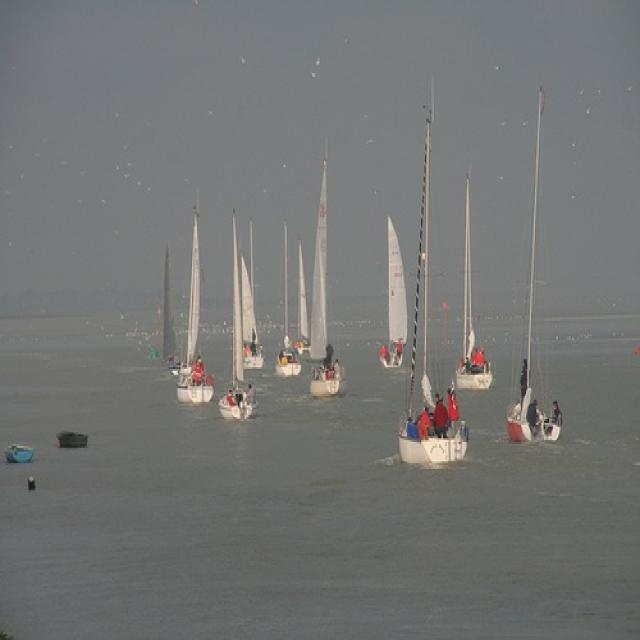boat: (395, 99, 476, 472), (504, 80, 569, 449), (451, 155, 499, 397), (310, 134, 352, 407), (219, 205, 264, 428), (175, 201, 219, 408), (376, 210, 414, 376), (274, 215, 306, 386), (239, 218, 269, 374), (294, 224, 313, 362), (5, 443, 37, 468), (55, 430, 91, 449)
